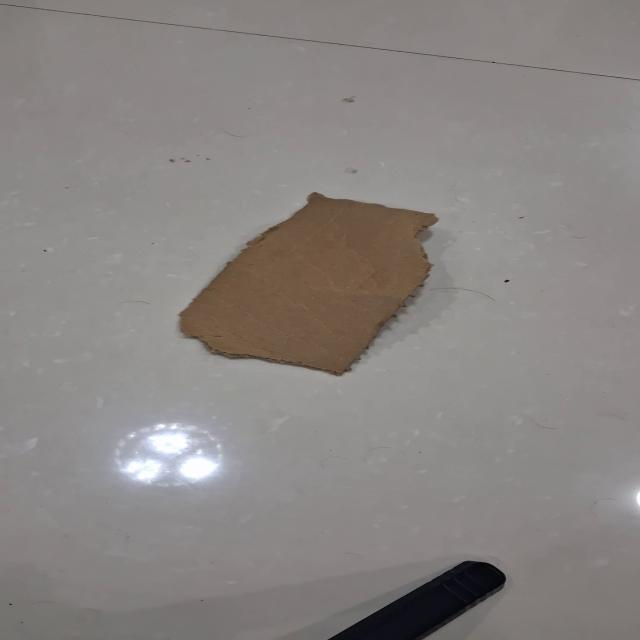paper: (176, 190, 439, 377)
